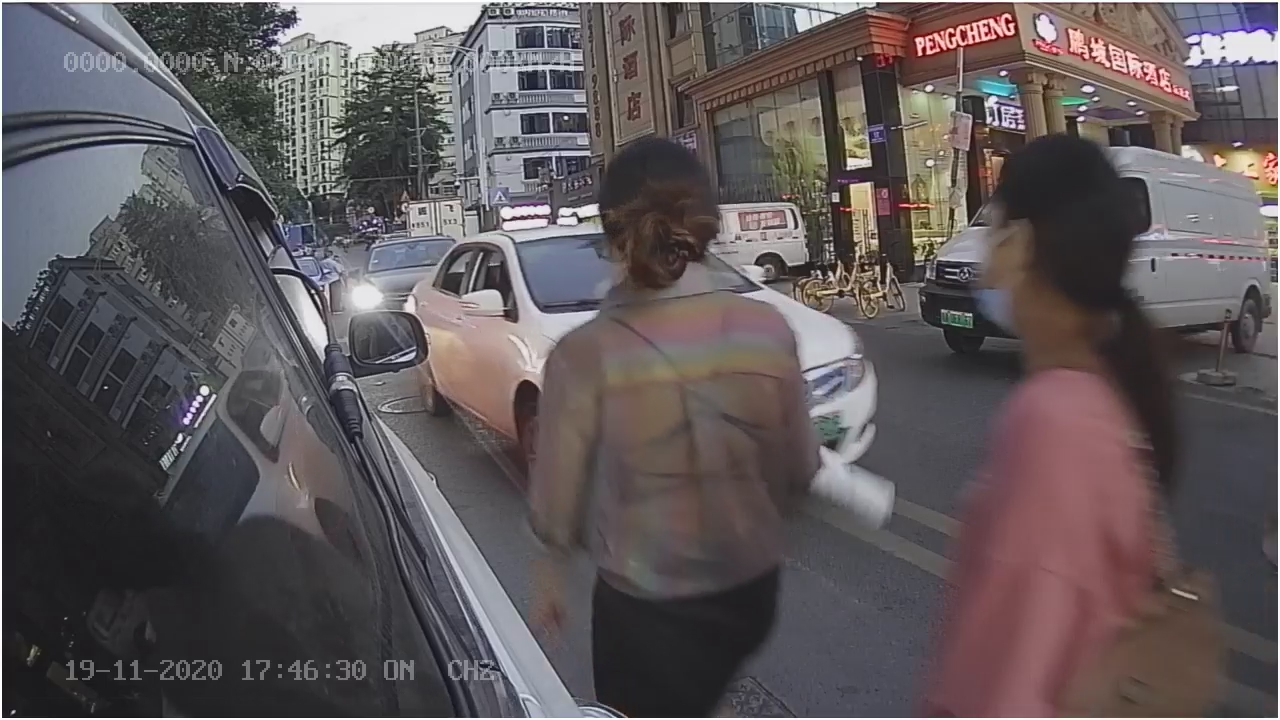person: (544, 142, 818, 663)
